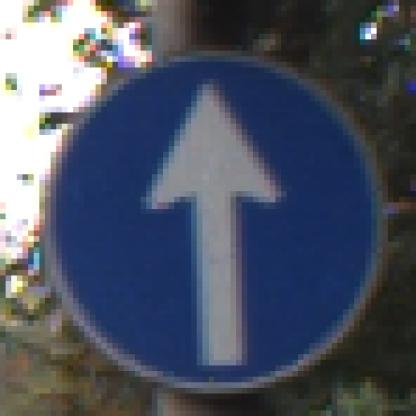AheadOnly: (40, 41, 378, 384)
